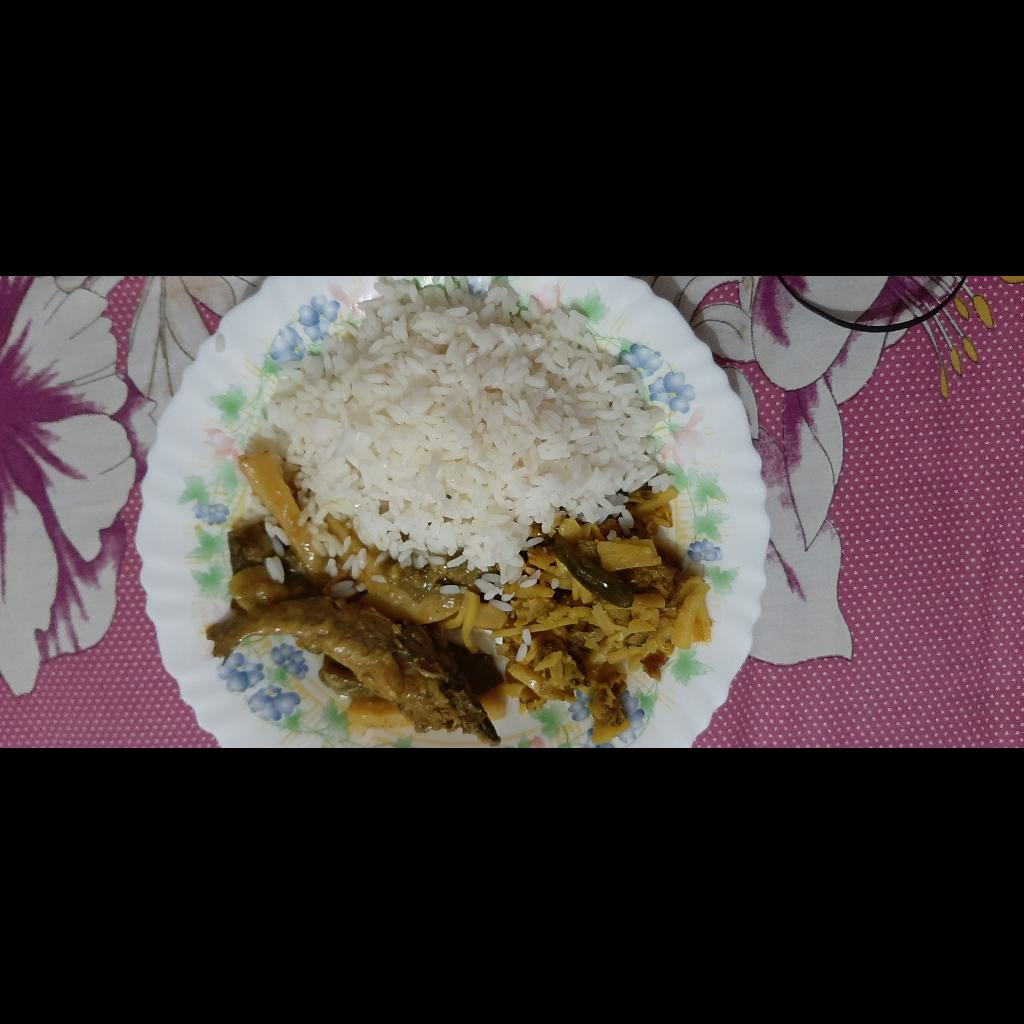fish: (5, 483, 161, 773)
korola-vaji: (5, 818, 112, 905)
potato: (42, 506, 296, 986), (18, 619, 55, 681)
rice: (159, 533, 472, 946)
shim: (177, 500, 229, 556)
